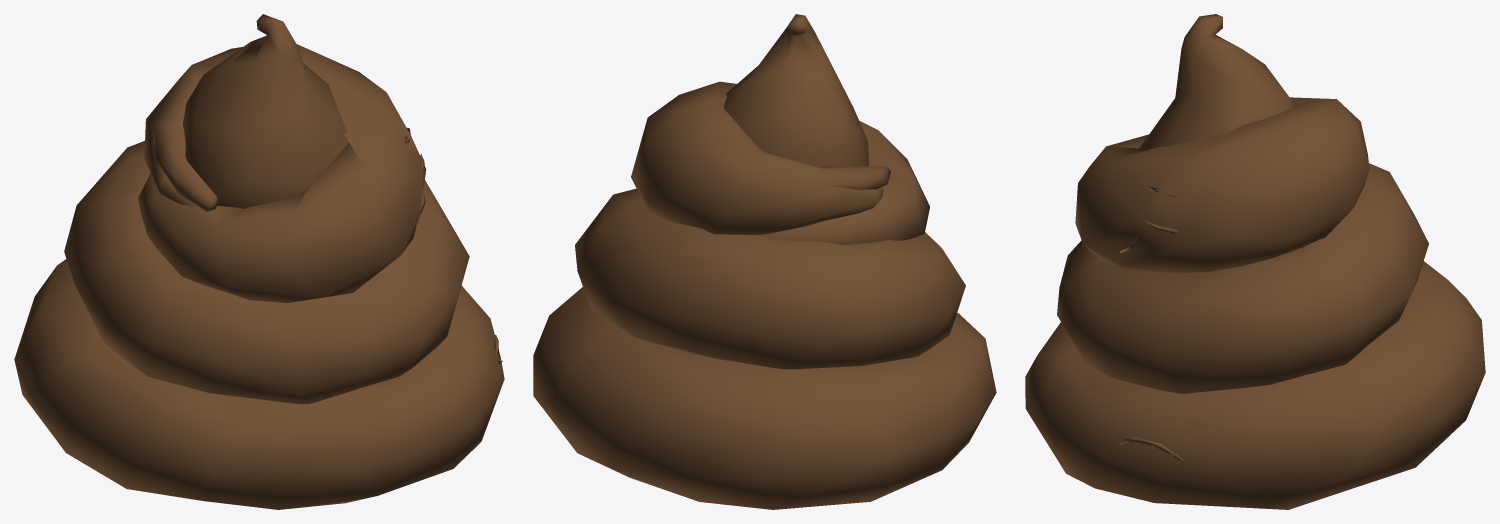
File: Poop.glb
3 views of the same model, side by side, from view 1: azimuth 30°, elevation 25°; view 2: azimuth 150°, elevation 25°; view 3: azimuth 270°, elevation 25° (orthographic). The views are drawn at different scales.
Visible parts, largest first — view 1: Poop; view 2: Poop; view 3: Poop.
Part boxes in pixels (x1,y1,x2,y2): Poop: (14, 14, 504, 509); Poop: (533, 14, 996, 509); Poop: (1025, 14, 1485, 509).
Size of the model in its own units: 1.01 by 0.9934 by 0.998.
